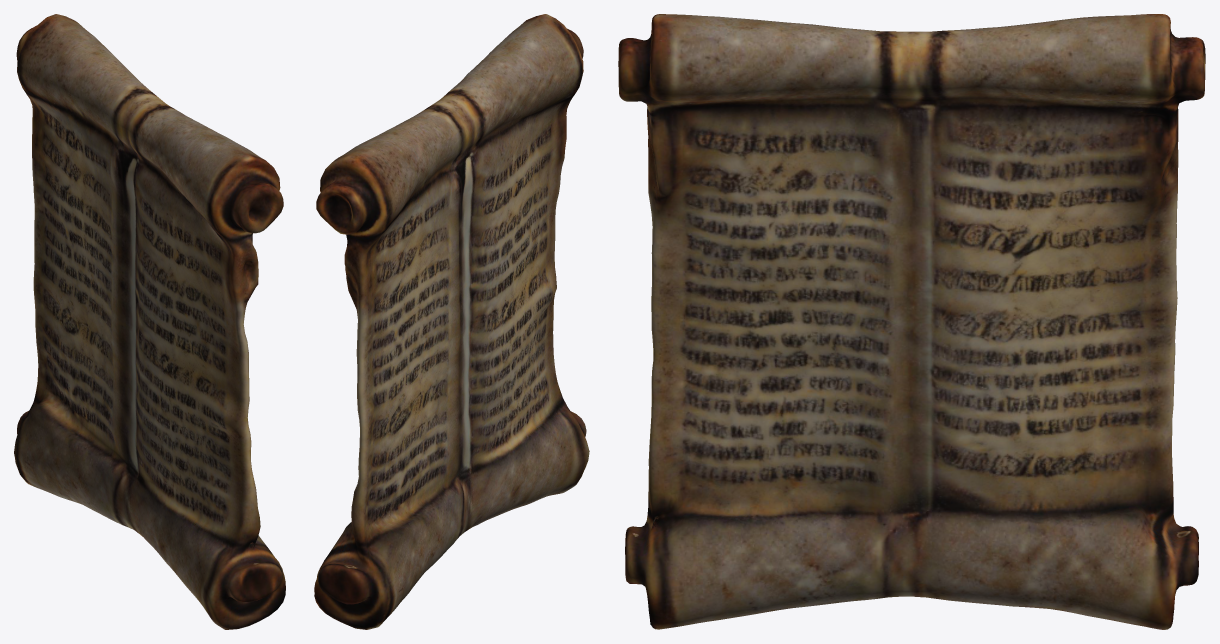
Rendered from Scroll 3.fbx.
The picture shows the model from 3 angles, left to right: view 1: azimuth 30°, elevation 25°; view 2: azimuth 150°, elevation 25°; view 3: azimuth 270°, elevation 25°; orthographic projection. The views are drawn at different scales.
Parts seen in each view (by area): view 1: mesh; view 2: mesh; view 3: mesh.
Boxes of the visible parts, <box> form: mesh: <box>14,14,285,629</box>; mesh: <box>314,14,589,629</box>; mesh: <box>618,14,1205,629</box>.
Bounding box in the file's own units: 16.92 × 99.71 × 86.94.
